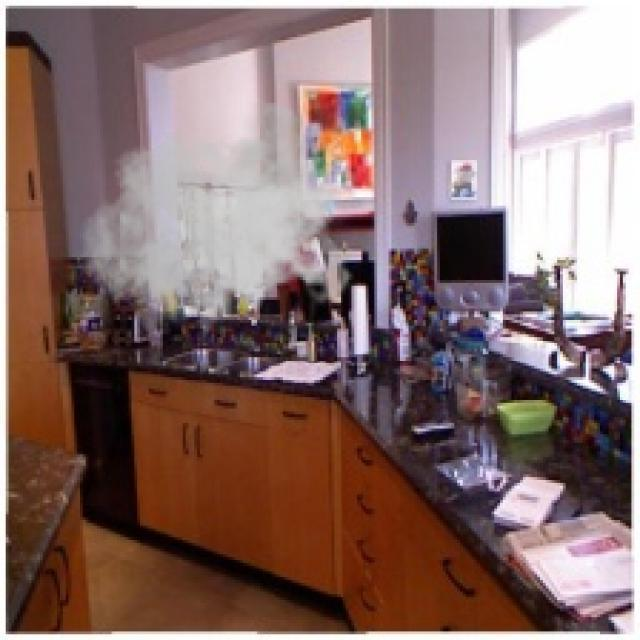Smoke: (80, 103, 357, 346)
